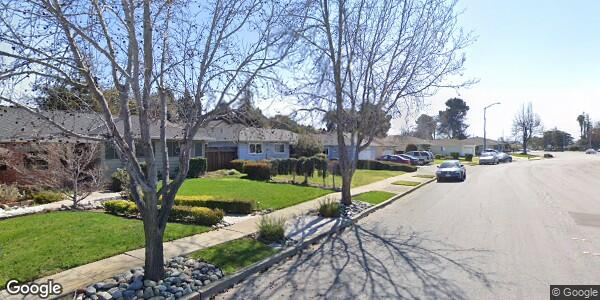Steel_Pole: (482, 98, 503, 162)
